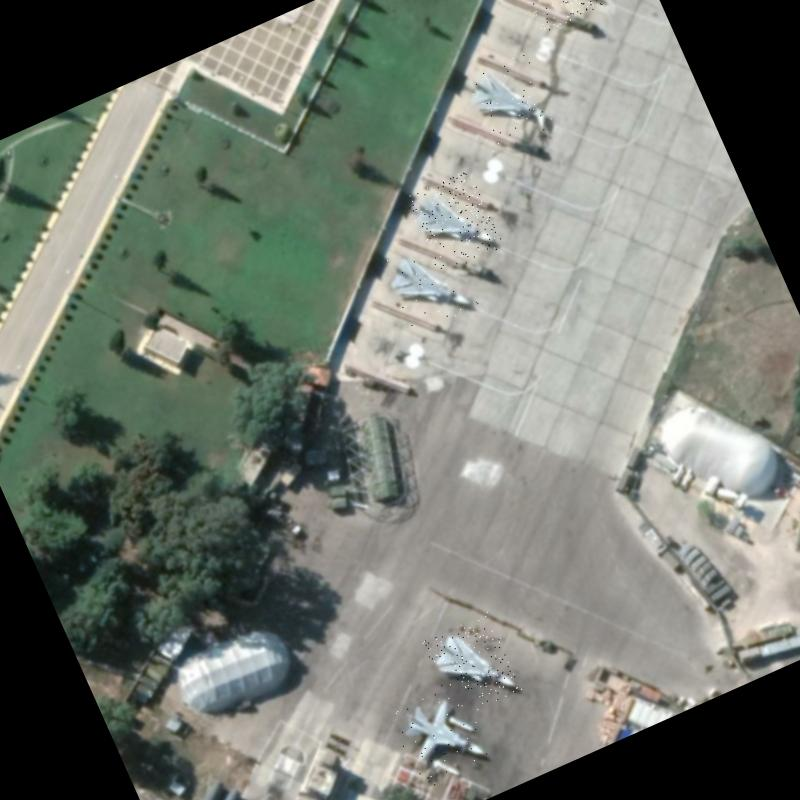A20: (388, 681, 495, 790), (422, 610, 524, 720), (378, 232, 481, 337), (406, 168, 504, 276), (460, 48, 558, 152), (509, 0, 612, 33)
